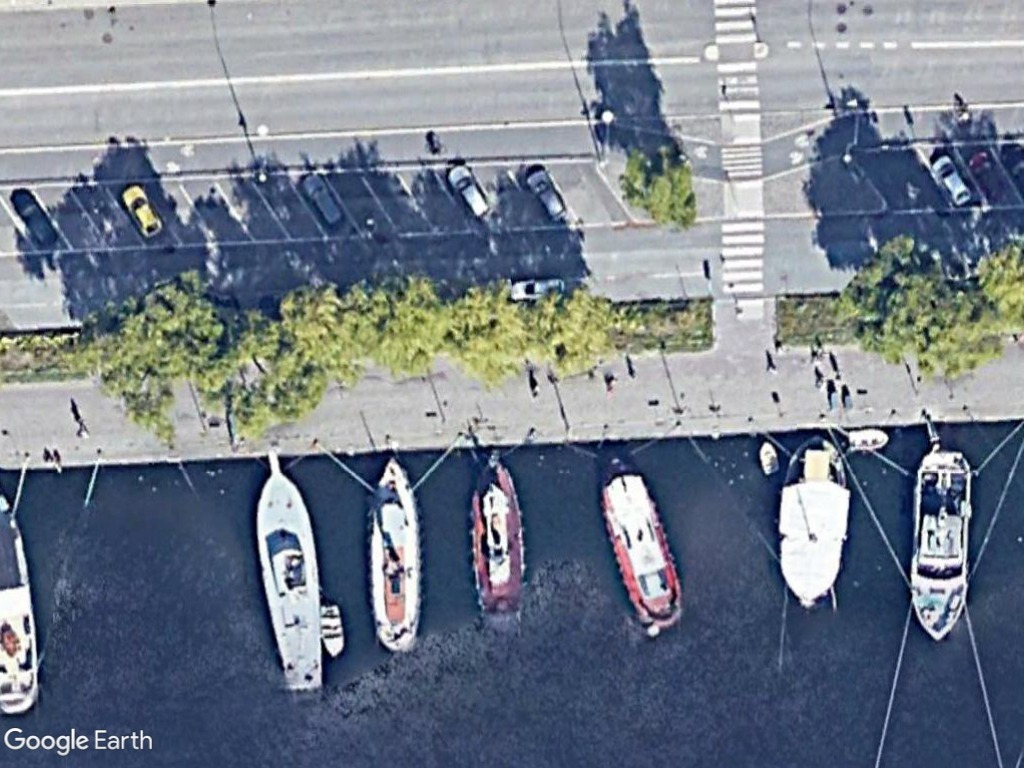boat: (589, 445, 694, 640), (248, 467, 335, 702), (767, 432, 860, 616), (904, 444, 978, 650), (461, 447, 532, 643), (365, 445, 428, 661)
car: (294, 167, 352, 237), (443, 157, 497, 226), (114, 179, 170, 245), (516, 163, 573, 227), (923, 147, 975, 210)
